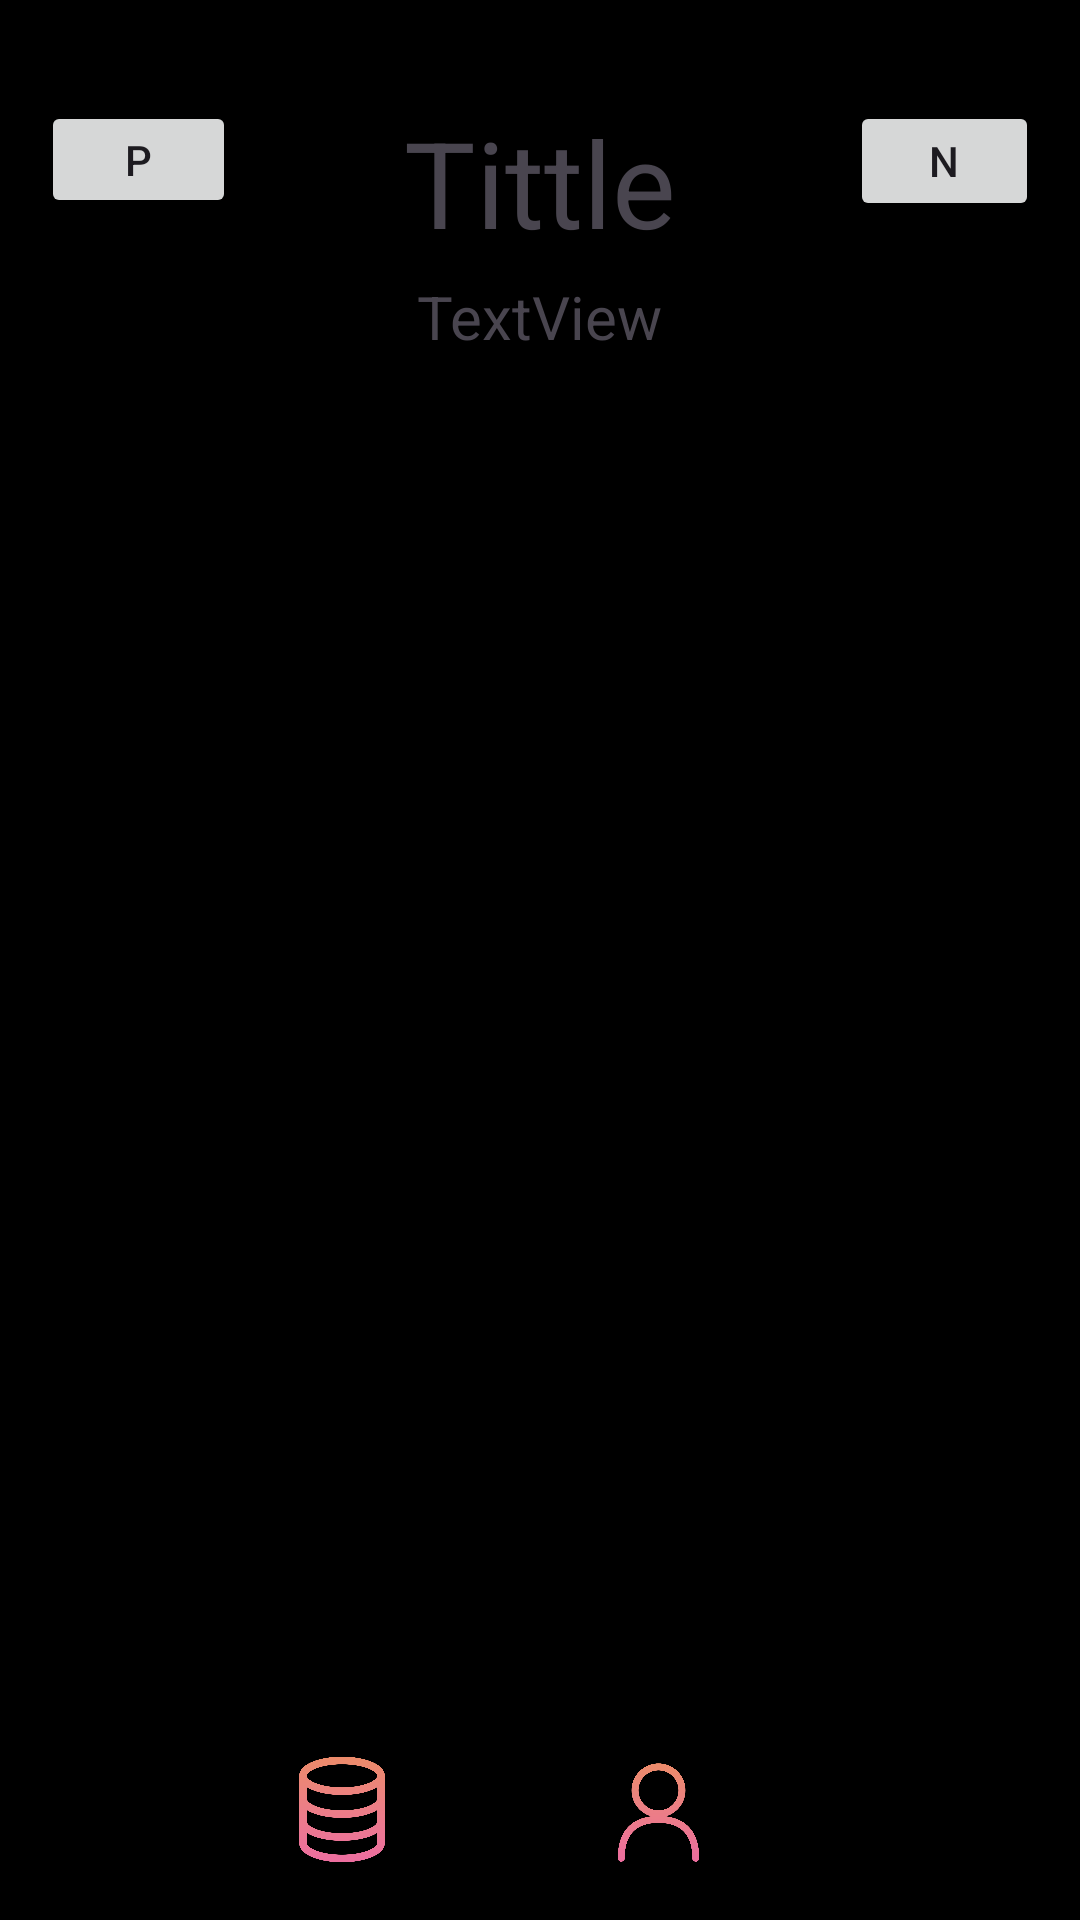

Where to tap for icons on this 1080 x 1920 app screen, as point (x, y):
database fit data: point (342, 1809)
user fit data: point (658, 1812)
